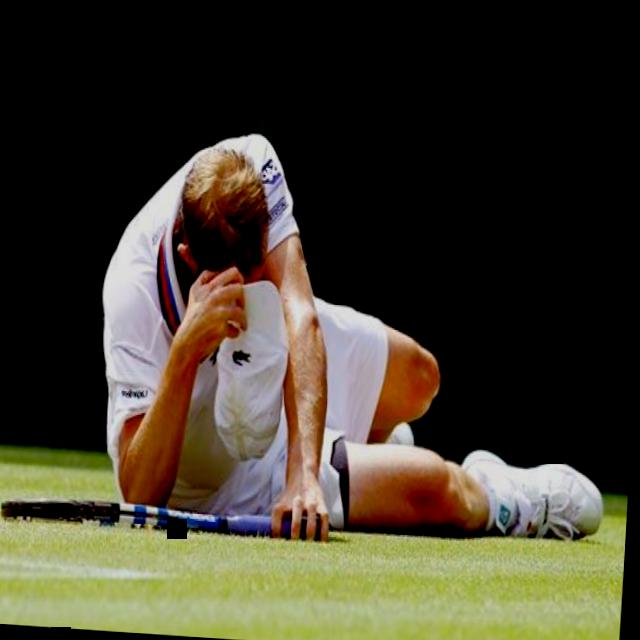Fall-Detected: (78, 86, 632, 566)
